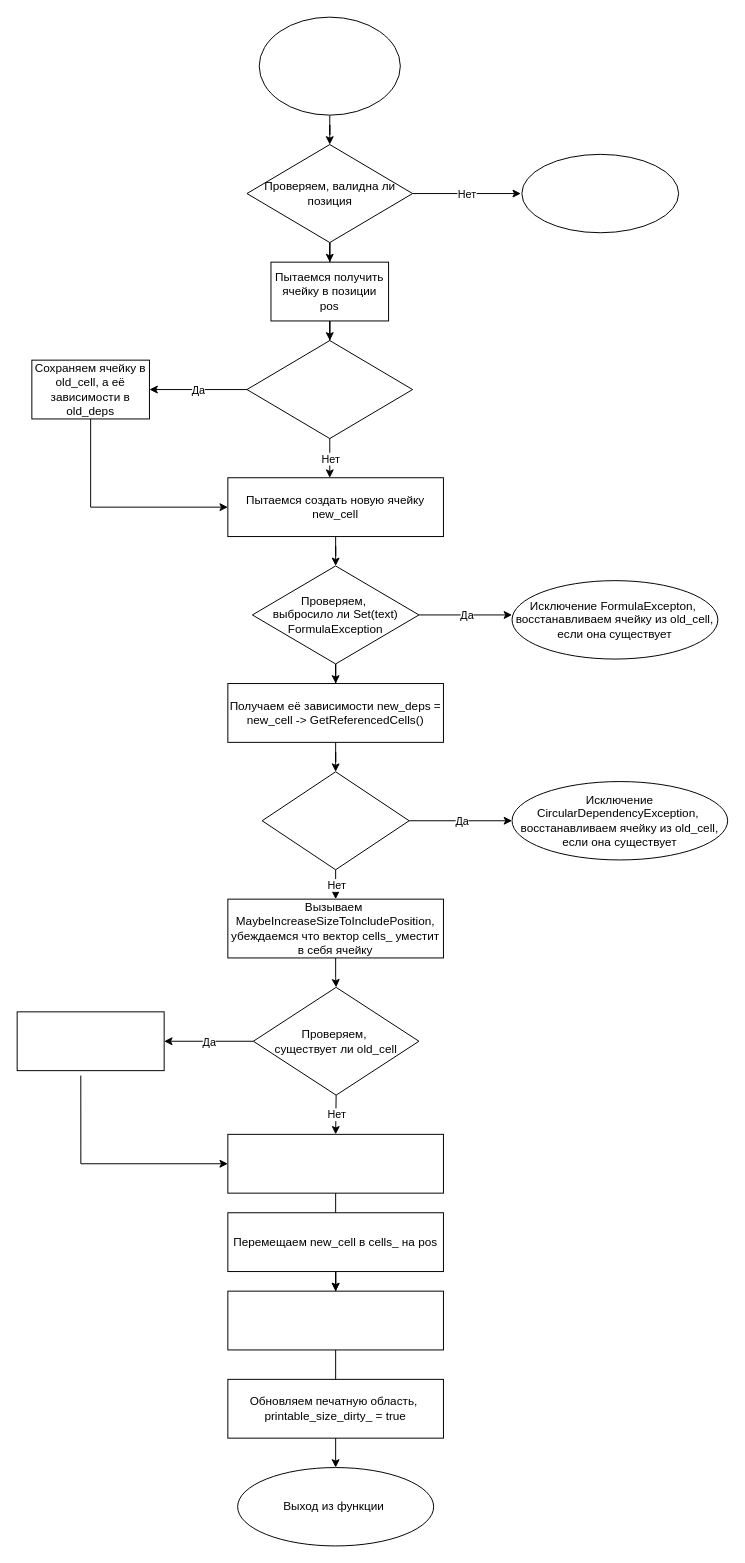
Image size: 745x1563. Some labels were removed from this diagram. The centre of each missing label's shape, as x and y in pixels:
Sheet::SetCell(Position pos, string text): the point at 329,65
Для каждой dep из new_dep получаем ячейку и добавляем в список зависимостей: the point at 335,1163
Инвалидируем кэш: the point at 335,1320
Исключение InvalidPositionException: the point at 600,193
Проверяем, есть ли циклические зависимости: the point at 335,820
Проверяем, существует ли эта ячейка: the point at 329,389
Удаляем все зависимости для каждой существующей позиции dep из old_deps: the point at 90,1041
